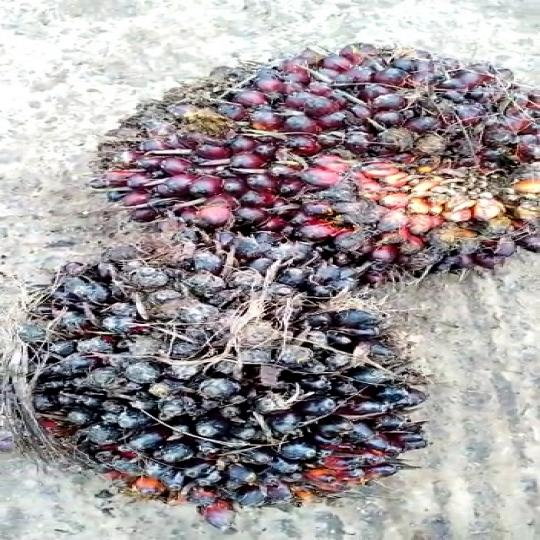kurang masak: (13, 257, 444, 517), (111, 33, 540, 282)
